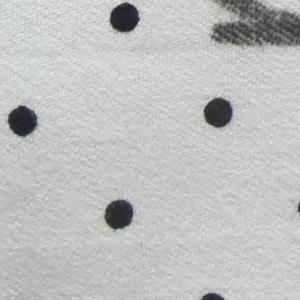Stain: (206, 1, 300, 51)
